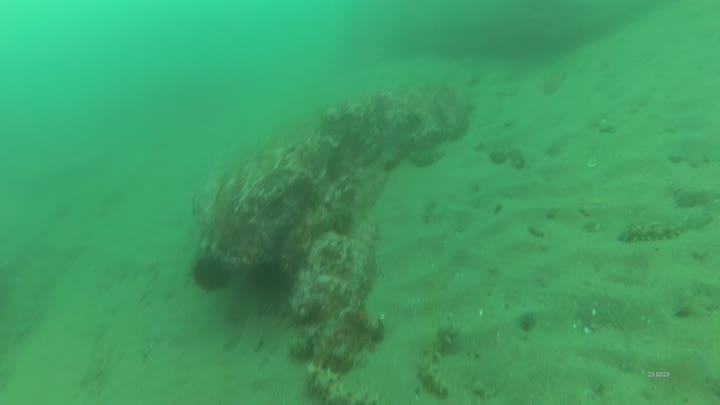echinus: (246, 255, 293, 300), (189, 251, 233, 295)
holothurian: (413, 321, 460, 400), (308, 359, 373, 405), (616, 216, 696, 247)
